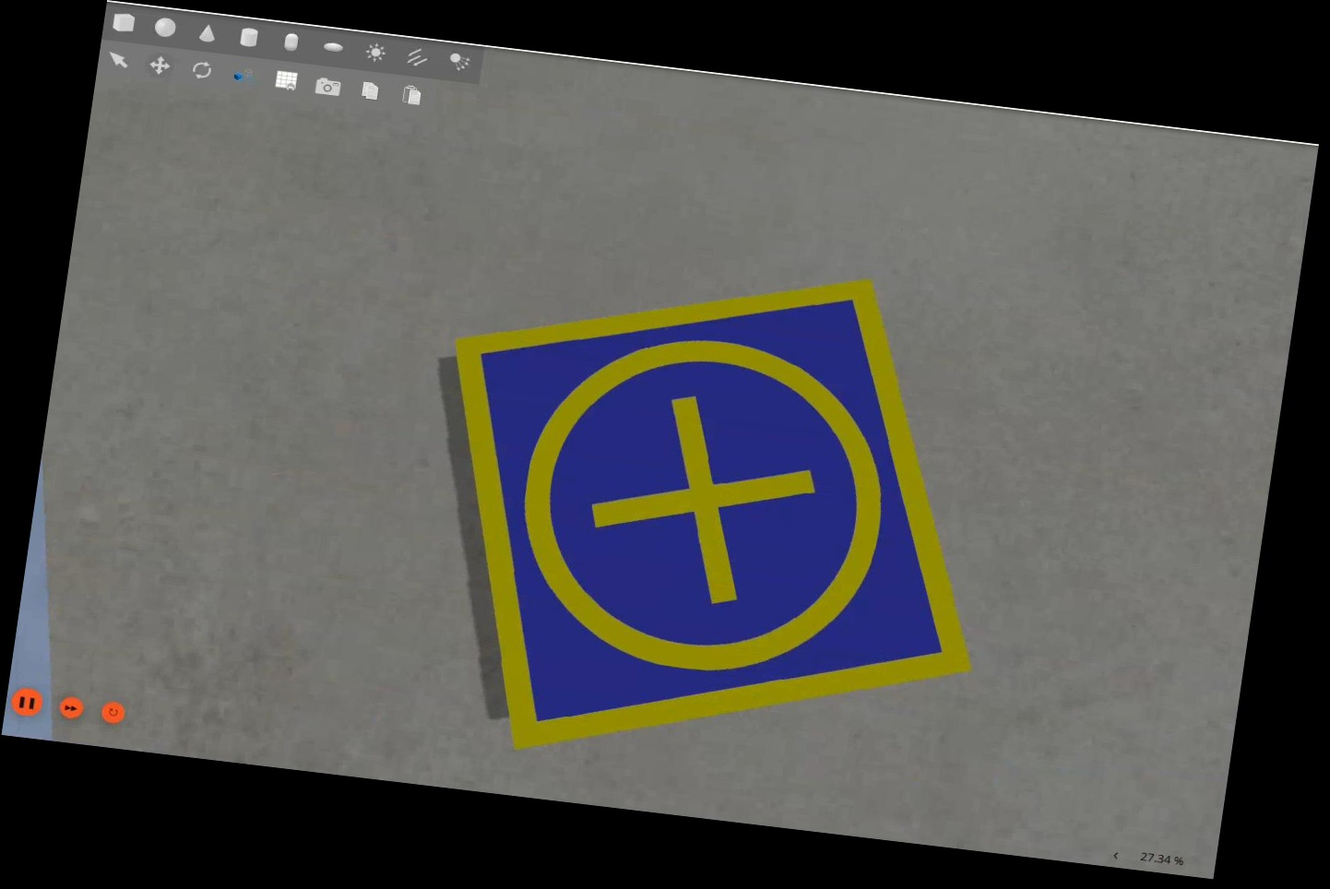small_base: (396, 229, 1029, 808)
